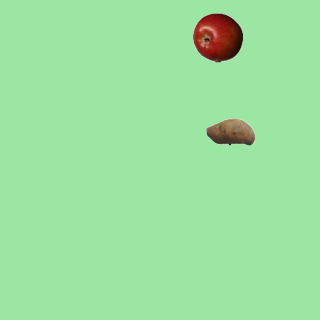Apple Braeburn: (192, 12, 242, 62)
Potato Sweet: (205, 106, 255, 156)
